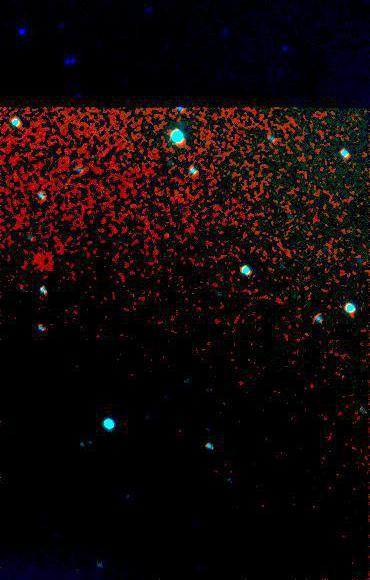star: (151, 220, 181, 250)
